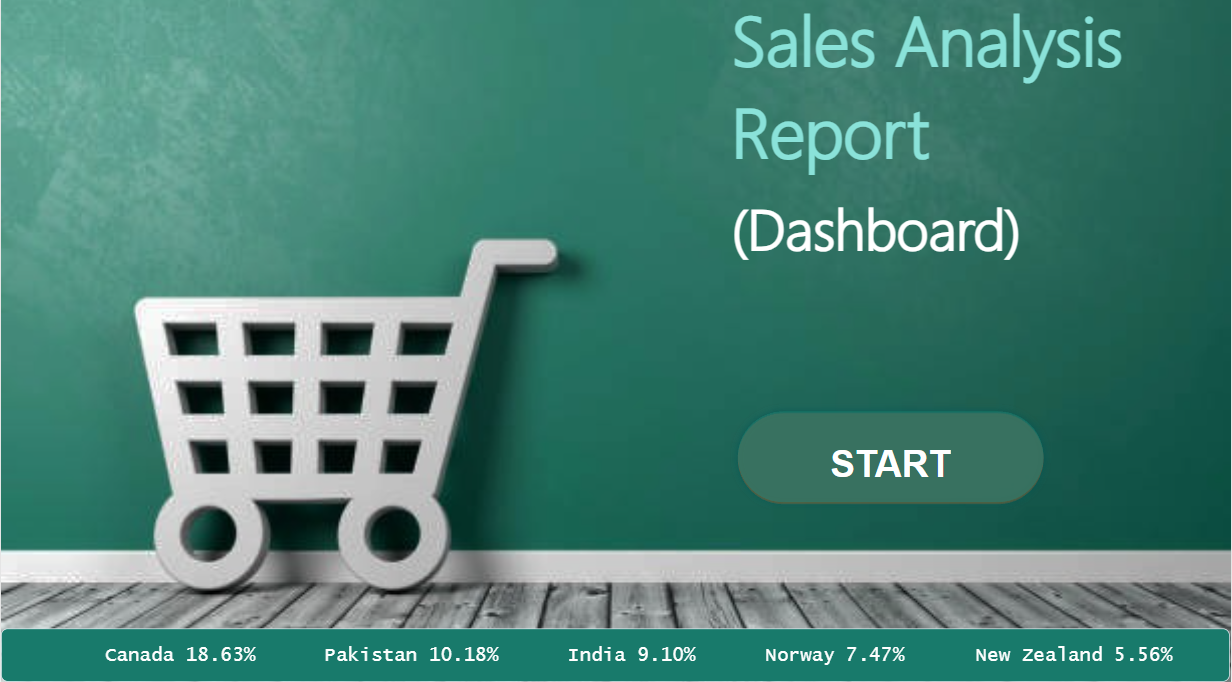

What the dashboard file says about the page in this screenshot:
{"tool":"powerbi","page":{"name":"Home Page ","canvas":[1280,720],"ordinal":0},"visuals":[{"type":"actionButton","box":[759.6,429.9,334.6,110.9],"z":0},{"type":"textbox","box":[760,0,520,416],"z":2000},{"type":"ScrollingTextVisual1448795304508","fields":{"Measure Absolute":["Sum(Souce-File.Sales)"],"Category":["Souce-File.Country"]},"box":[0,664.1,1279.5,55.1],"z":3000}]}

Visuals, with their boxes in screenshot pixels (x1, y1, x2, y2), scaled from the page's 1280x720 canvas onto the 1232x682 screenshot:
actionButton: box(731, 407, 1053, 512)
textbox: box(732, 0, 1231, 394)
ScrollingTextVisual1448795304508 - Sum(Souce-File.Sales) x Souce-File.Country: box(0, 629, 1231, 681)
